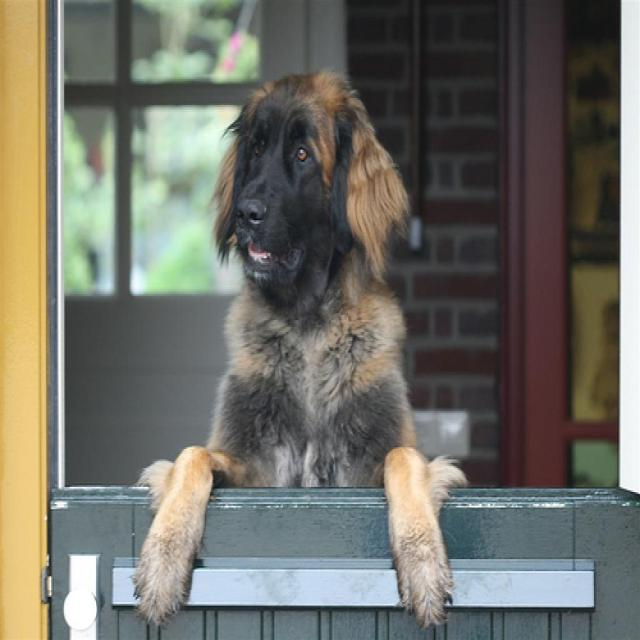dog-leonberger: (123, 67, 458, 628)
